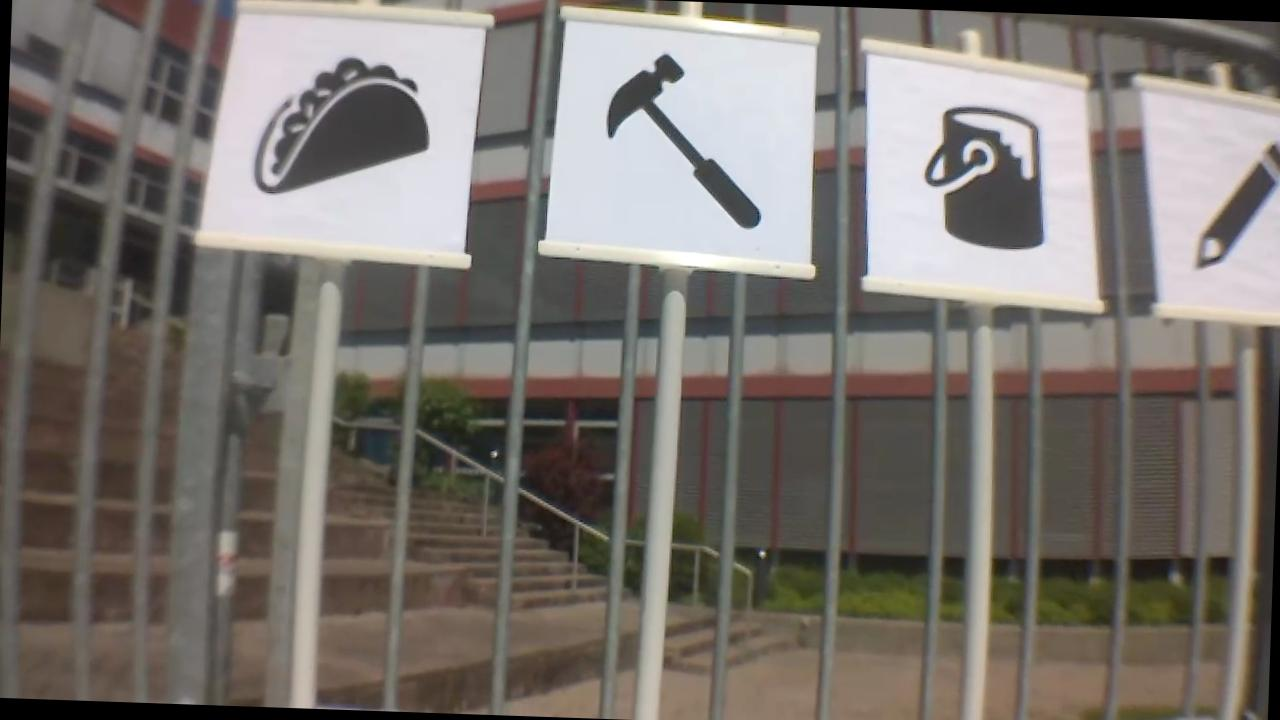bucket: (916, 100, 1052, 256)
hammer: (593, 50, 777, 229)
pencil: (1197, 134, 1280, 277)
taco: (242, 58, 428, 203)
